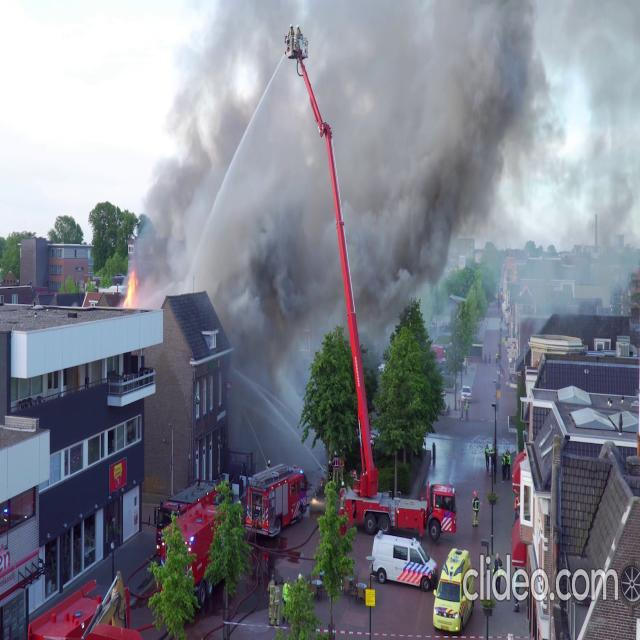Fire: (122, 266, 140, 310)
Smoke: (138, 1, 640, 368)
